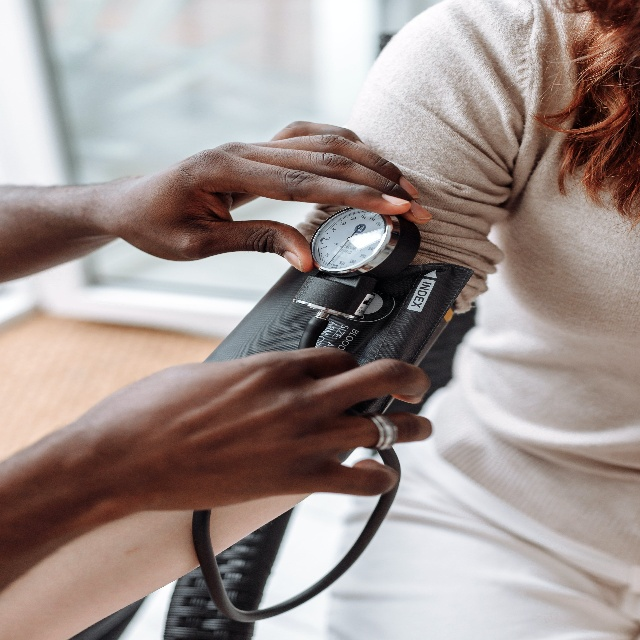Sin_guantes: (87, 348, 433, 511), (133, 120, 431, 280)
